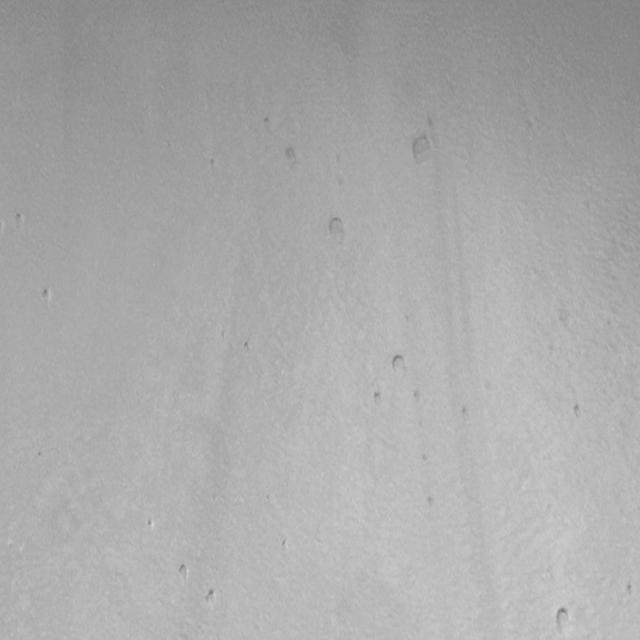pin holes: (408, 133, 435, 169), (552, 603, 576, 637), (325, 213, 347, 241), (569, 398, 591, 422), (391, 353, 409, 378), (37, 283, 54, 308), (370, 389, 388, 412), (176, 563, 194, 585), (423, 491, 439, 514), (283, 145, 299, 167), (203, 586, 219, 606), (261, 115, 277, 135), (13, 212, 28, 230), (279, 536, 291, 556), (624, 580, 637, 598), (461, 405, 474, 422), (205, 156, 218, 173), (411, 390, 424, 406), (144, 516, 156, 533), (418, 450, 432, 464), (242, 338, 254, 354)
